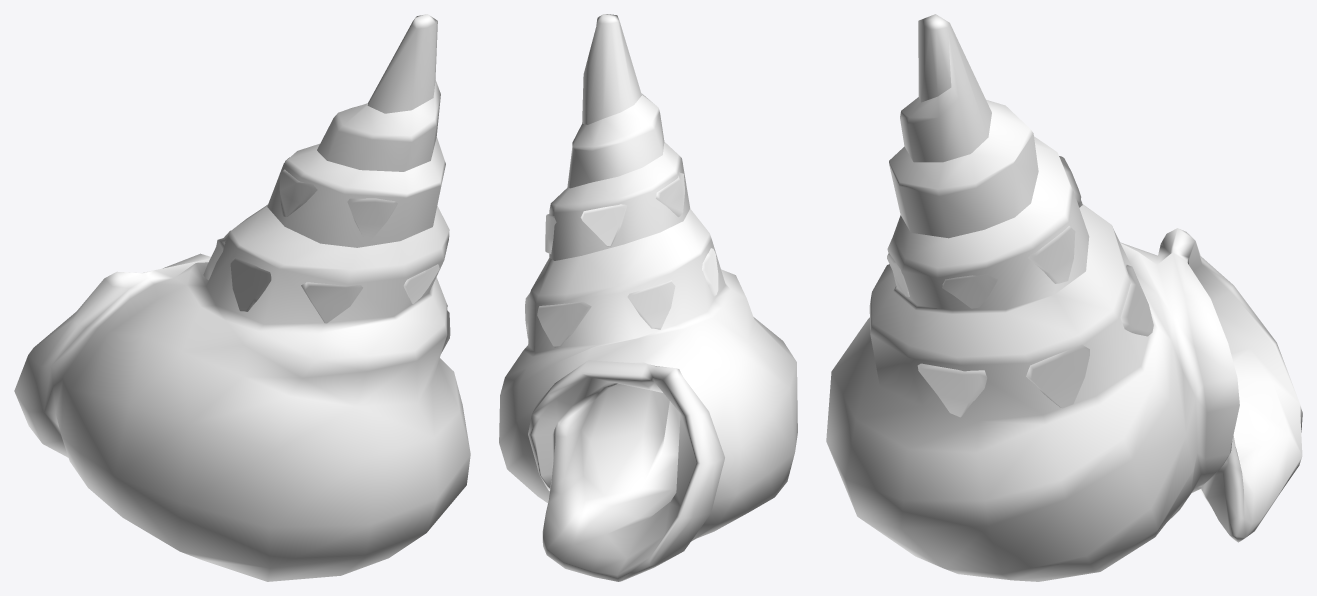
File: Prop_MusicShellOffice.glb
3 views of the same model, side by side, from view 1: azimuth 30°, elevation 25°; view 2: azimuth 150°, elevation 25°; view 3: azimuth 270°, elevation 25° (orthographic). The views are drawn at different scales.
Parts seen in each view (by area): view 1: Prop_MusicShellOffice; view 2: Prop_MusicShellOffice; view 3: Prop_MusicShellOffice.
Part boxes in pixels (x1,y1,x2,y2): Prop_MusicShellOffice: (14,14,470,581); Prop_MusicShellOffice: (499,14,797,581); Prop_MusicShellOffice: (826,14,1302,581).
Size of the model in its own units: 3.64 by 5.76 by 4.23.
1 material, 1 textured.
